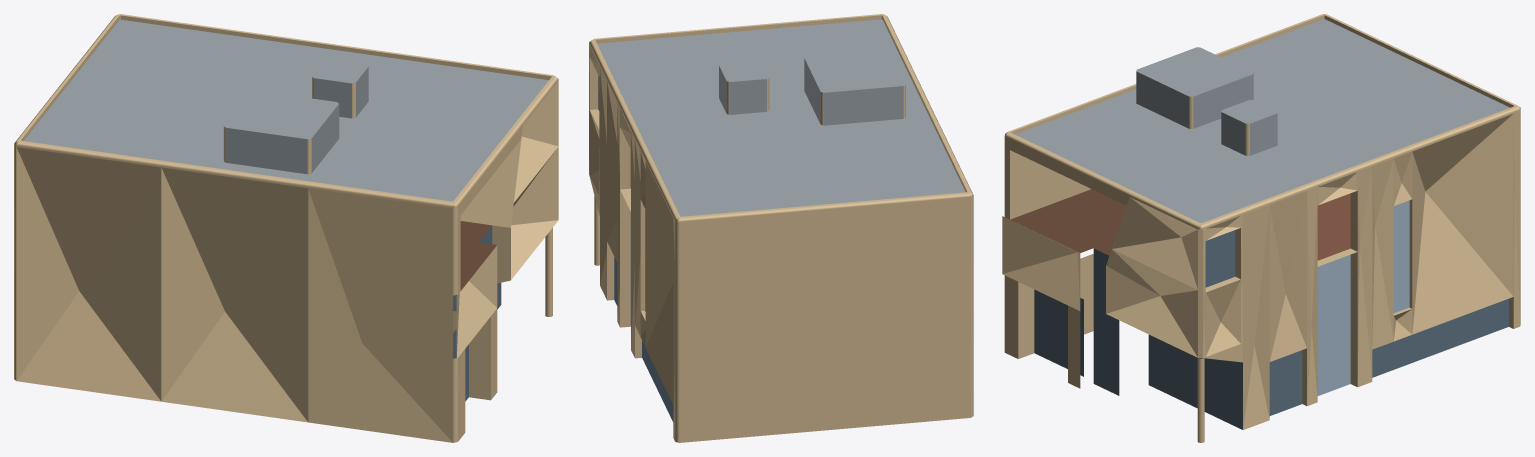
Rendered from detail.glb.
3 views of the same model, side by side, from view 1: azimuth 30°, elevation 25°; view 2: azimuth 150°, elevation 25°; view 3: azimuth 270°, elevation 25° (orthographic). The views are drawn at different scales.
Parts seen in each view (by area): view 1: mint-museum-uptown; view 2: mint-museum-uptown; view 3: mint-museum-uptown.
Part boxes in pixels (bbox=[...]): mint-museum-uptown: bbox=[14, 14, 558, 442]; mint-museum-uptown: bbox=[589, 14, 973, 442]; mint-museum-uptown: bbox=[1002, 14, 1520, 442].
Bounding box in the file's own units: 71.21 × 38.4 × 72.81.
